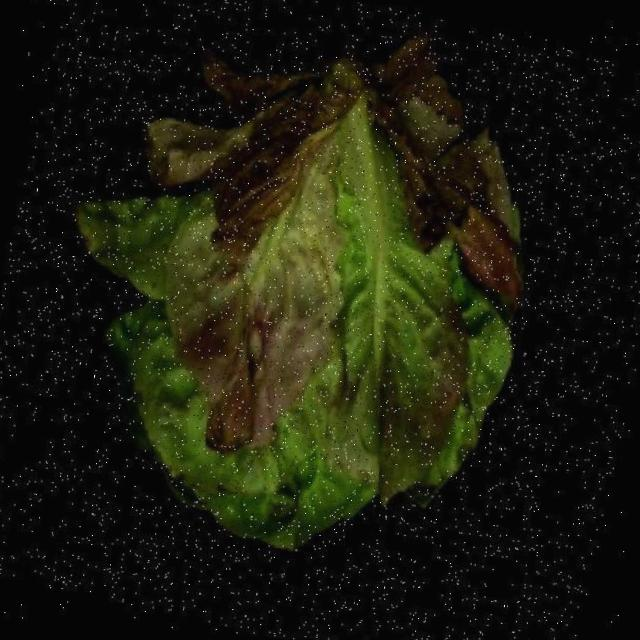Downy_Mildew: (14, 0, 622, 630)
